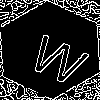W: (25, 25, 96, 88)
